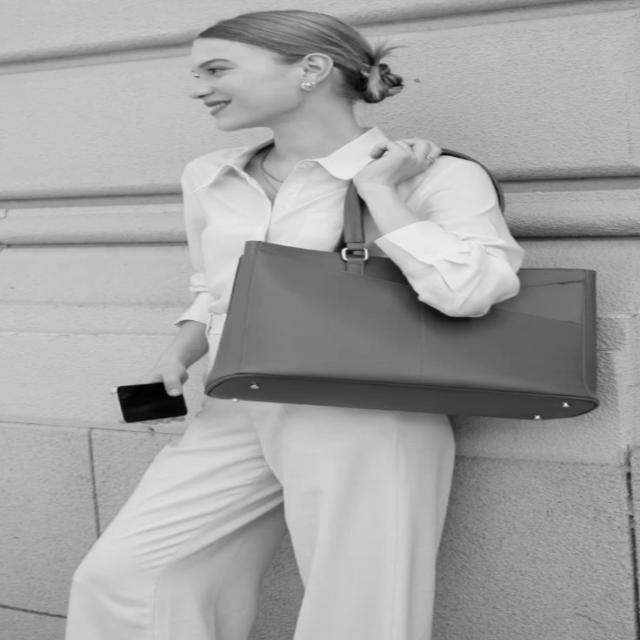bag: (199, 240, 611, 413)
mobile: (100, 378, 193, 432)
person: (54, 3, 589, 231)
